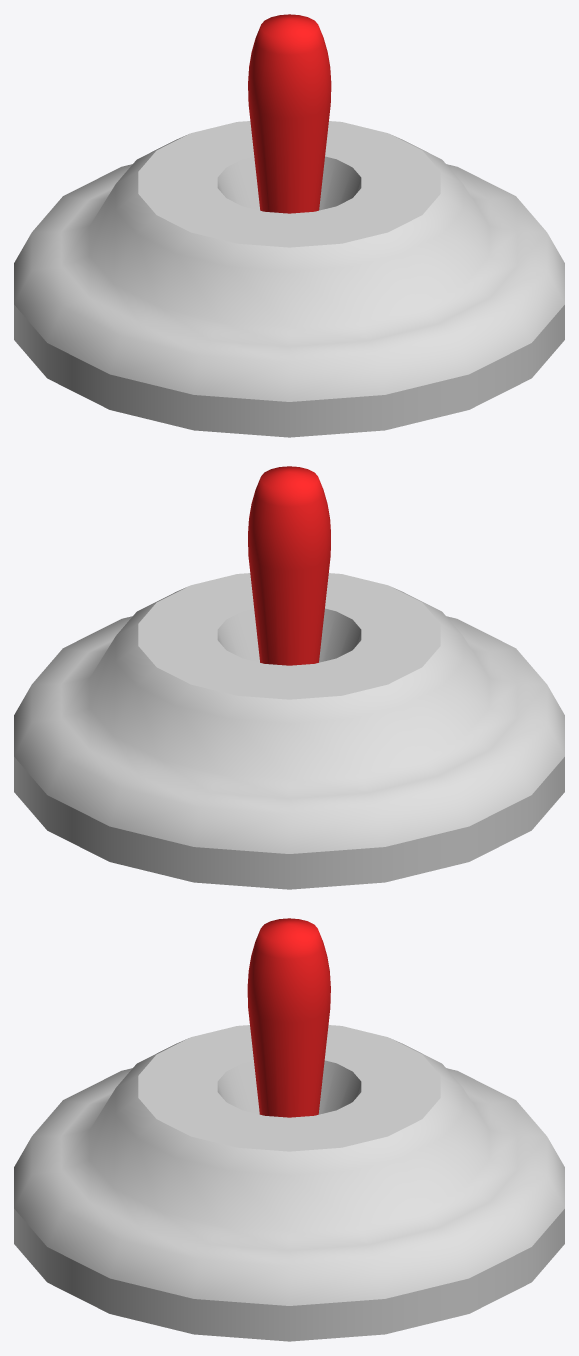
File: Ob_Switch_button.FBX
3 renders of one model, top to bottom at view 1: azimuth 30°, elevation 25°; view 2: azimuth 150°, elevation 25°; view 3: azimuth 270°, elevation 25°, orthographic.
Parts seen in each view (by area): view 1: Switch Holder, Switch; view 2: Switch Holder, Switch; view 3: Switch Holder, Switch.
Part boxes in pixels (x1,y1,x2,y2): Switch Holder: [14, 121, 564, 437]; Switch: [248, 14, 331, 213]; Switch Holder: [14, 573, 564, 889]; Switch: [248, 466, 330, 665]; Switch Holder: [14, 1025, 564, 1341]; Switch: [247, 918, 330, 1117].
Size of the model in its own units: 8.46 by 4.99 by 8.33.
